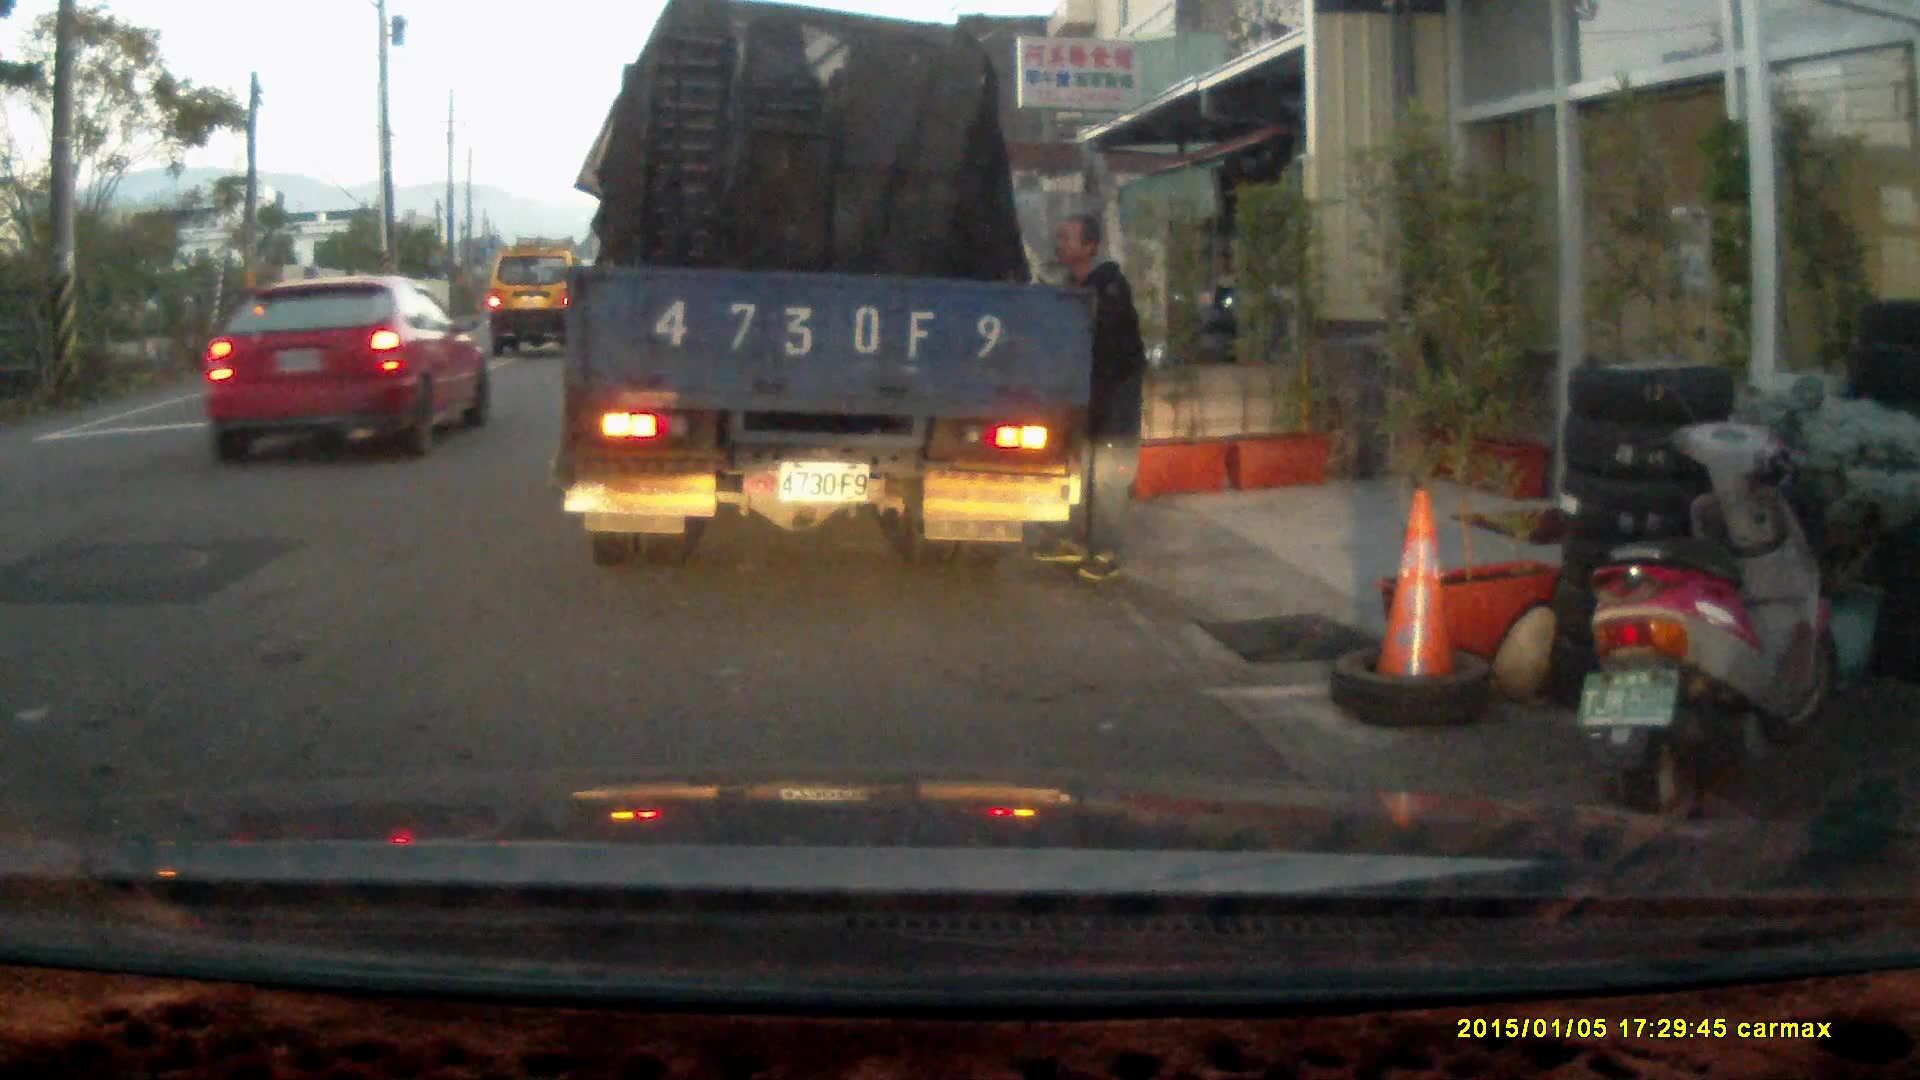pedestrian: (1026, 214, 1144, 581)
vehicle: (565, 23, 1097, 572), (200, 271, 493, 470), (486, 245, 587, 351)
